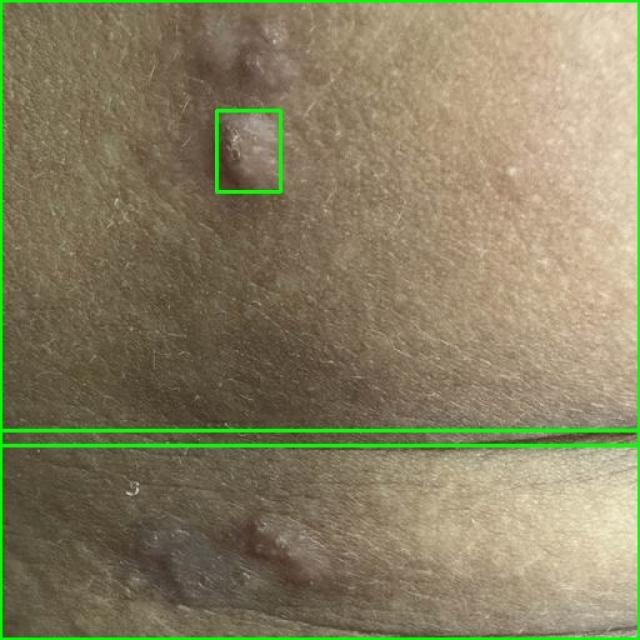Scabies: (0, 0, 639, 445), (0, 430, 639, 639), (216, 110, 280, 191)
